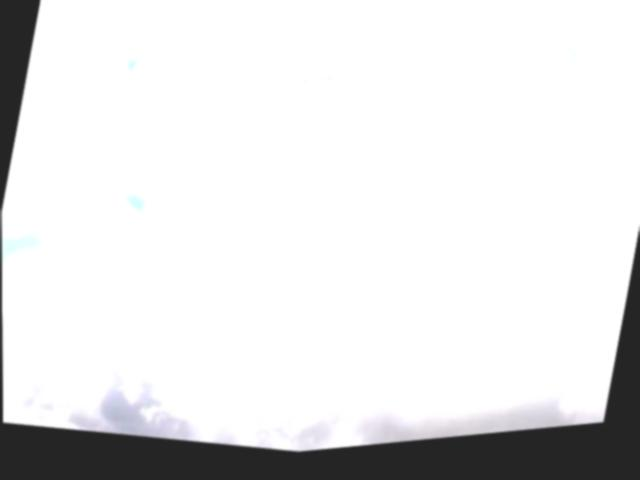iha: (272, 69, 337, 116)
